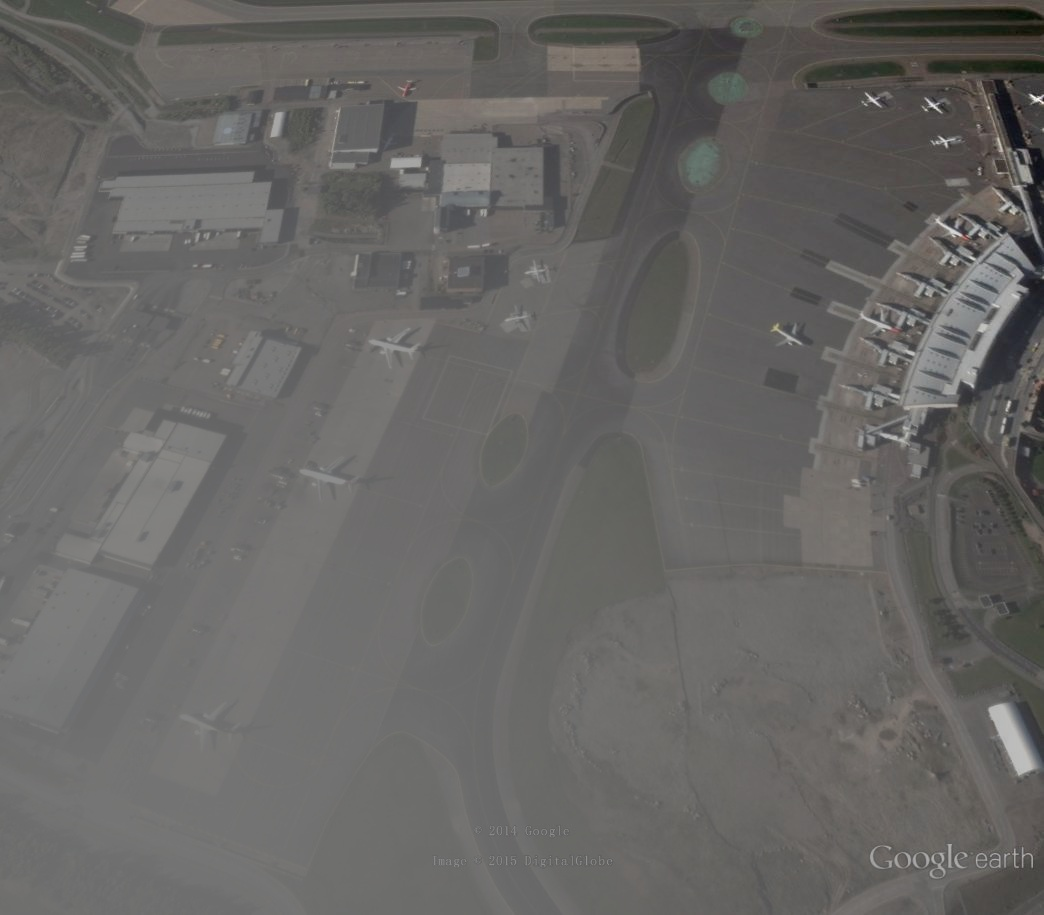aircraft: (171, 697, 249, 754), (297, 454, 366, 508), (361, 324, 427, 373), (852, 303, 907, 339), (766, 318, 811, 354), (928, 213, 973, 246), (499, 303, 537, 336), (522, 256, 555, 288), (859, 87, 892, 115), (927, 130, 963, 154), (918, 93, 951, 118), (393, 75, 421, 102)
